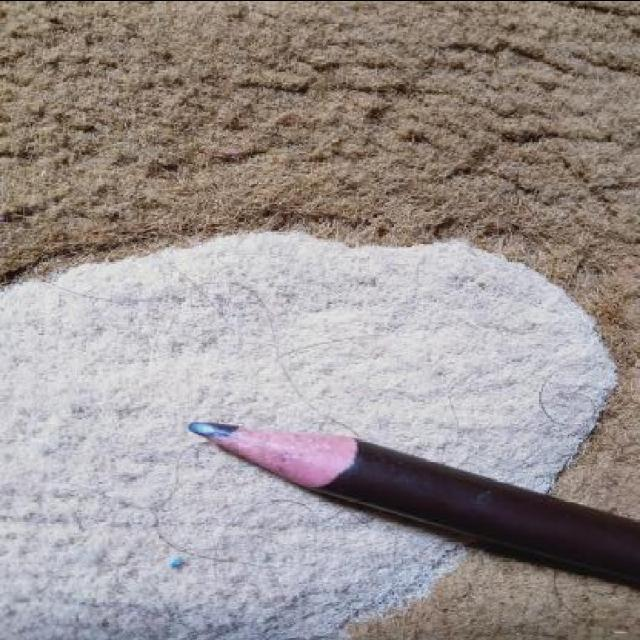Pencil: (172, 410, 378, 504)
